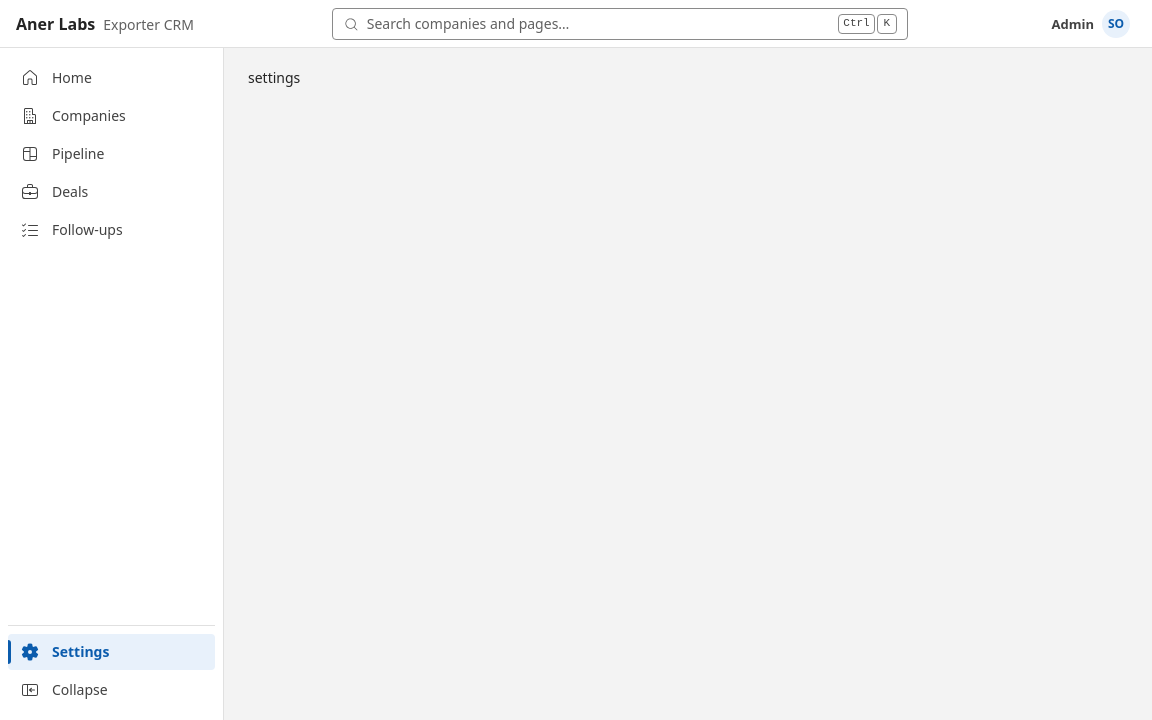
Test: the side navigation › takes ADMIN to each of its rows
Expected: the text "settings" is shown, [248, 68, 300, 87]
Click the link "Home".
click(56, 78)  # box [20, 68, 92, 88]
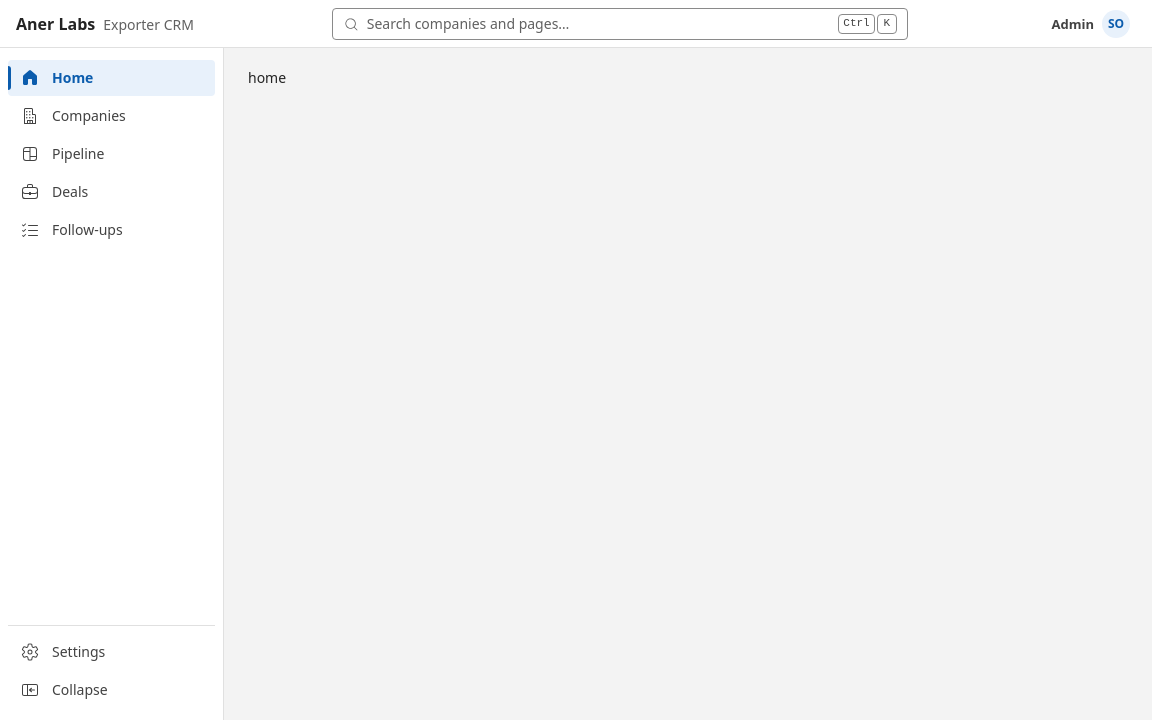
Expected: the text with test id "screen" reads "home", [248, 68, 286, 87]
Click the link "Companies".
click(73, 116)  # box [20, 106, 126, 126]
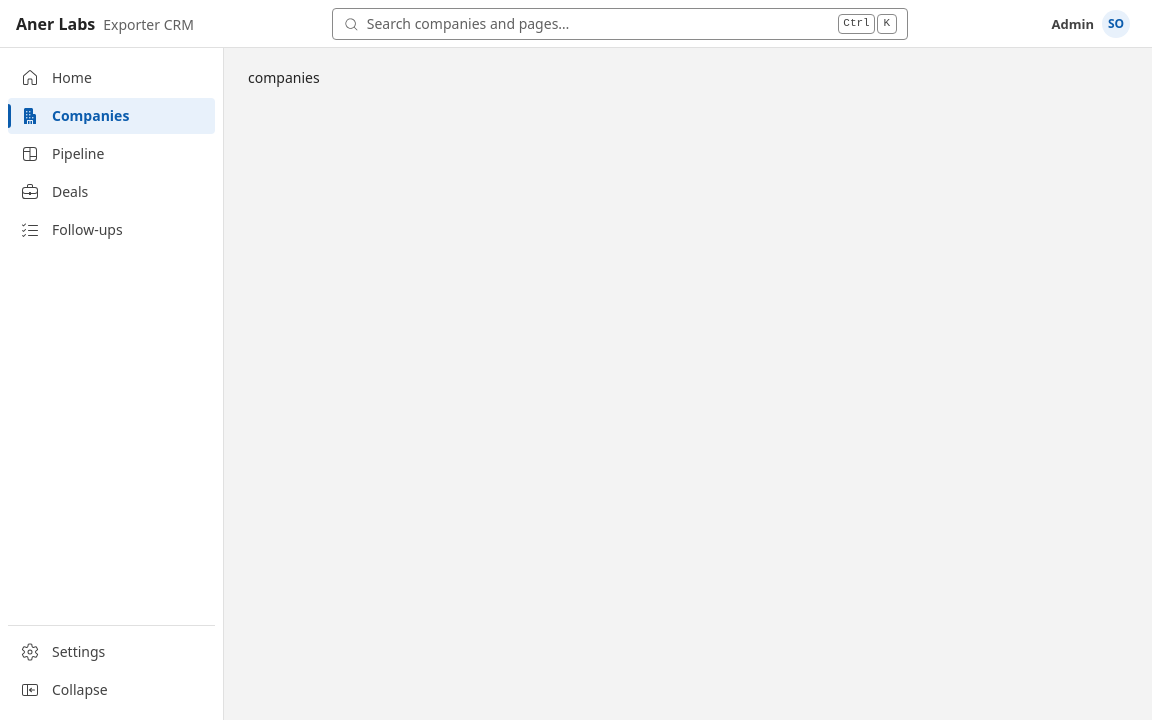
Expected: the text with test id "screen" reads "companies", [248, 68, 320, 87]
Click the link "Pipeline".
click(62, 154)  # box [20, 144, 104, 164]
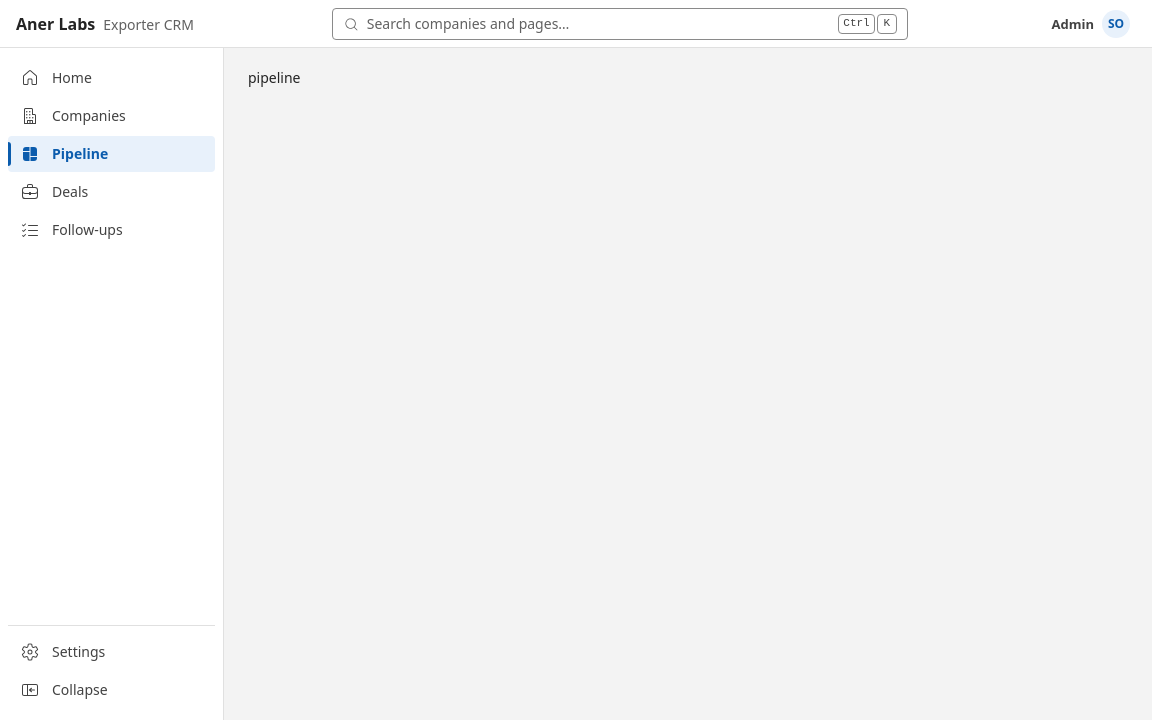
Expected: the text with test id "screen" reads "pipeline", [248, 68, 300, 87]
Click the link "Deals".
click(54, 192)  # box [20, 182, 88, 202]
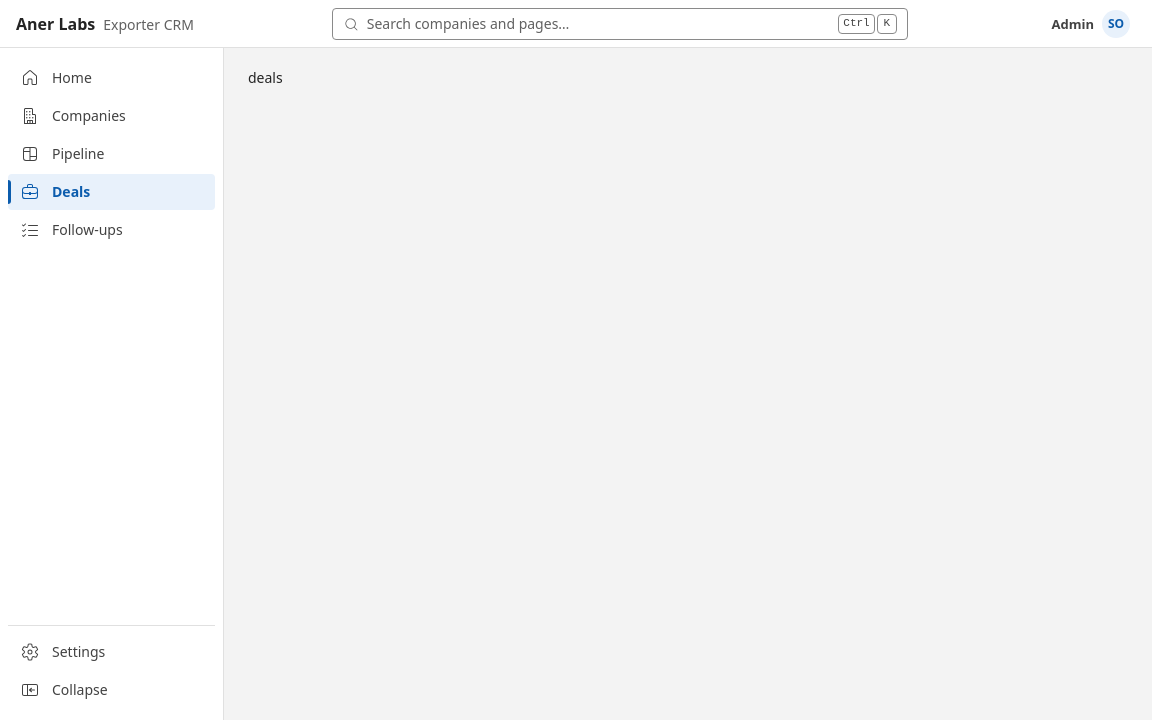
Expected: the text with test id "screen" reads "deals", [248, 68, 283, 87]
Click the link "Follow-ups".
click(71, 230)  # box [20, 220, 123, 240]
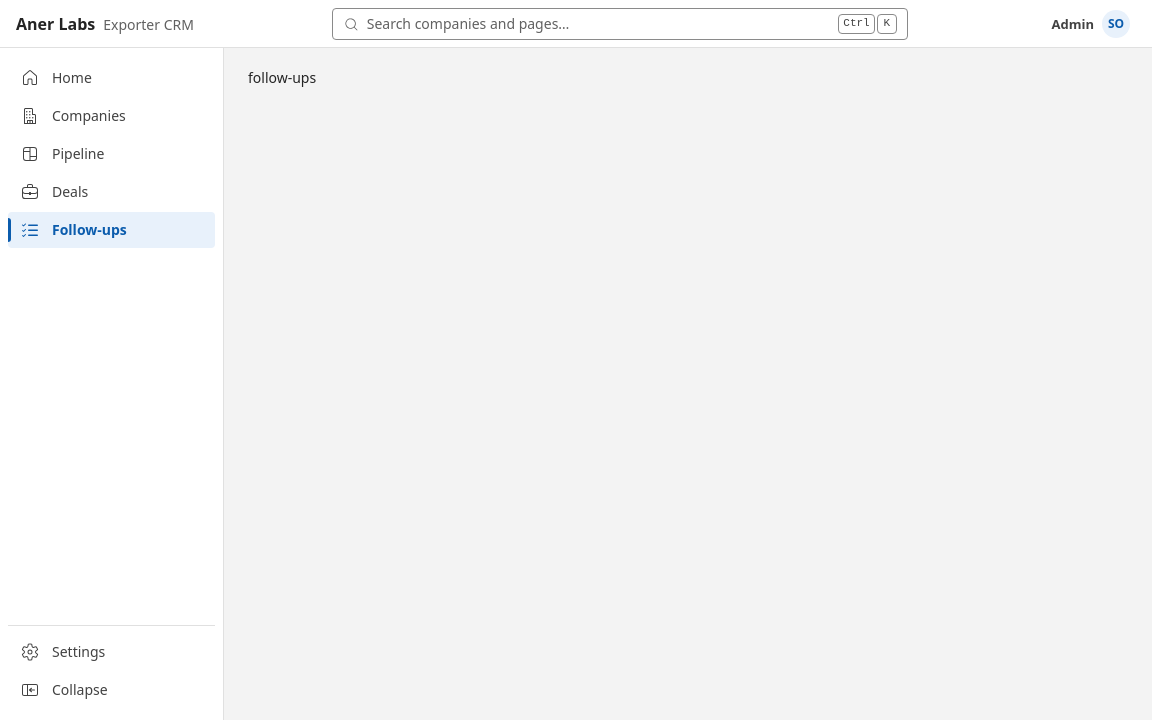
Expected: the text with test id "screen" reads "follow-ups", [248, 68, 316, 87]
Click the link "Settings".
click(63, 652)  # box [20, 642, 105, 662]
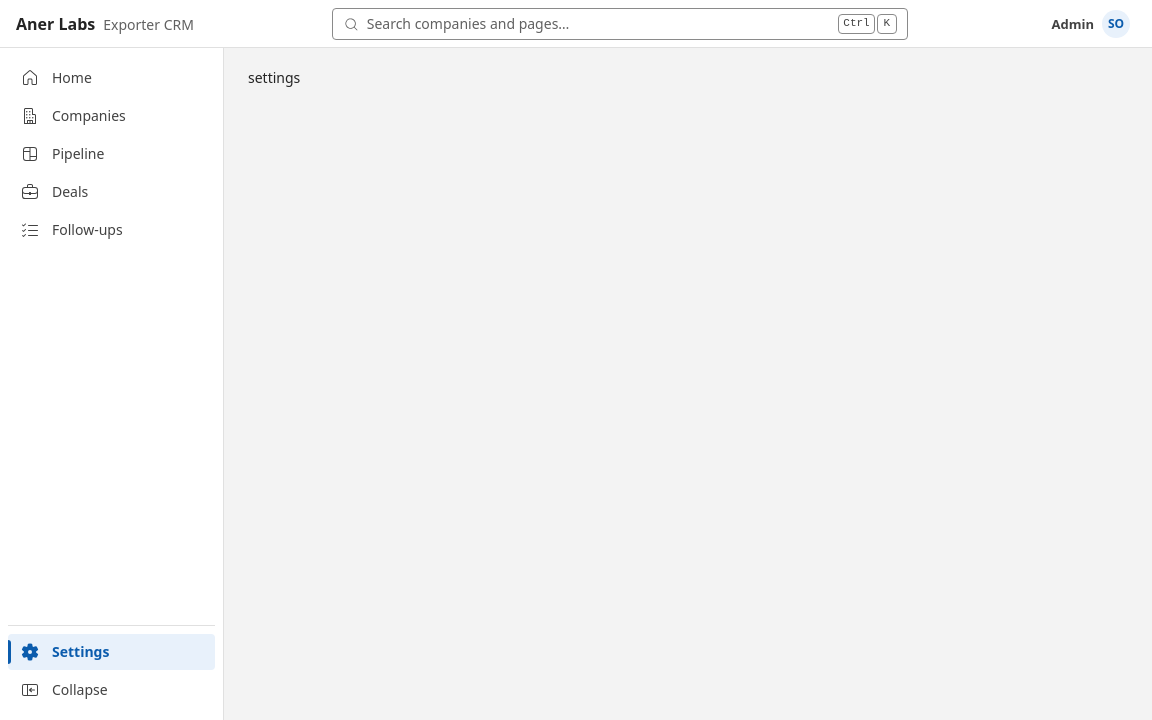
Expected: the text with test id "screen" reads "settings", [248, 68, 300, 87]
